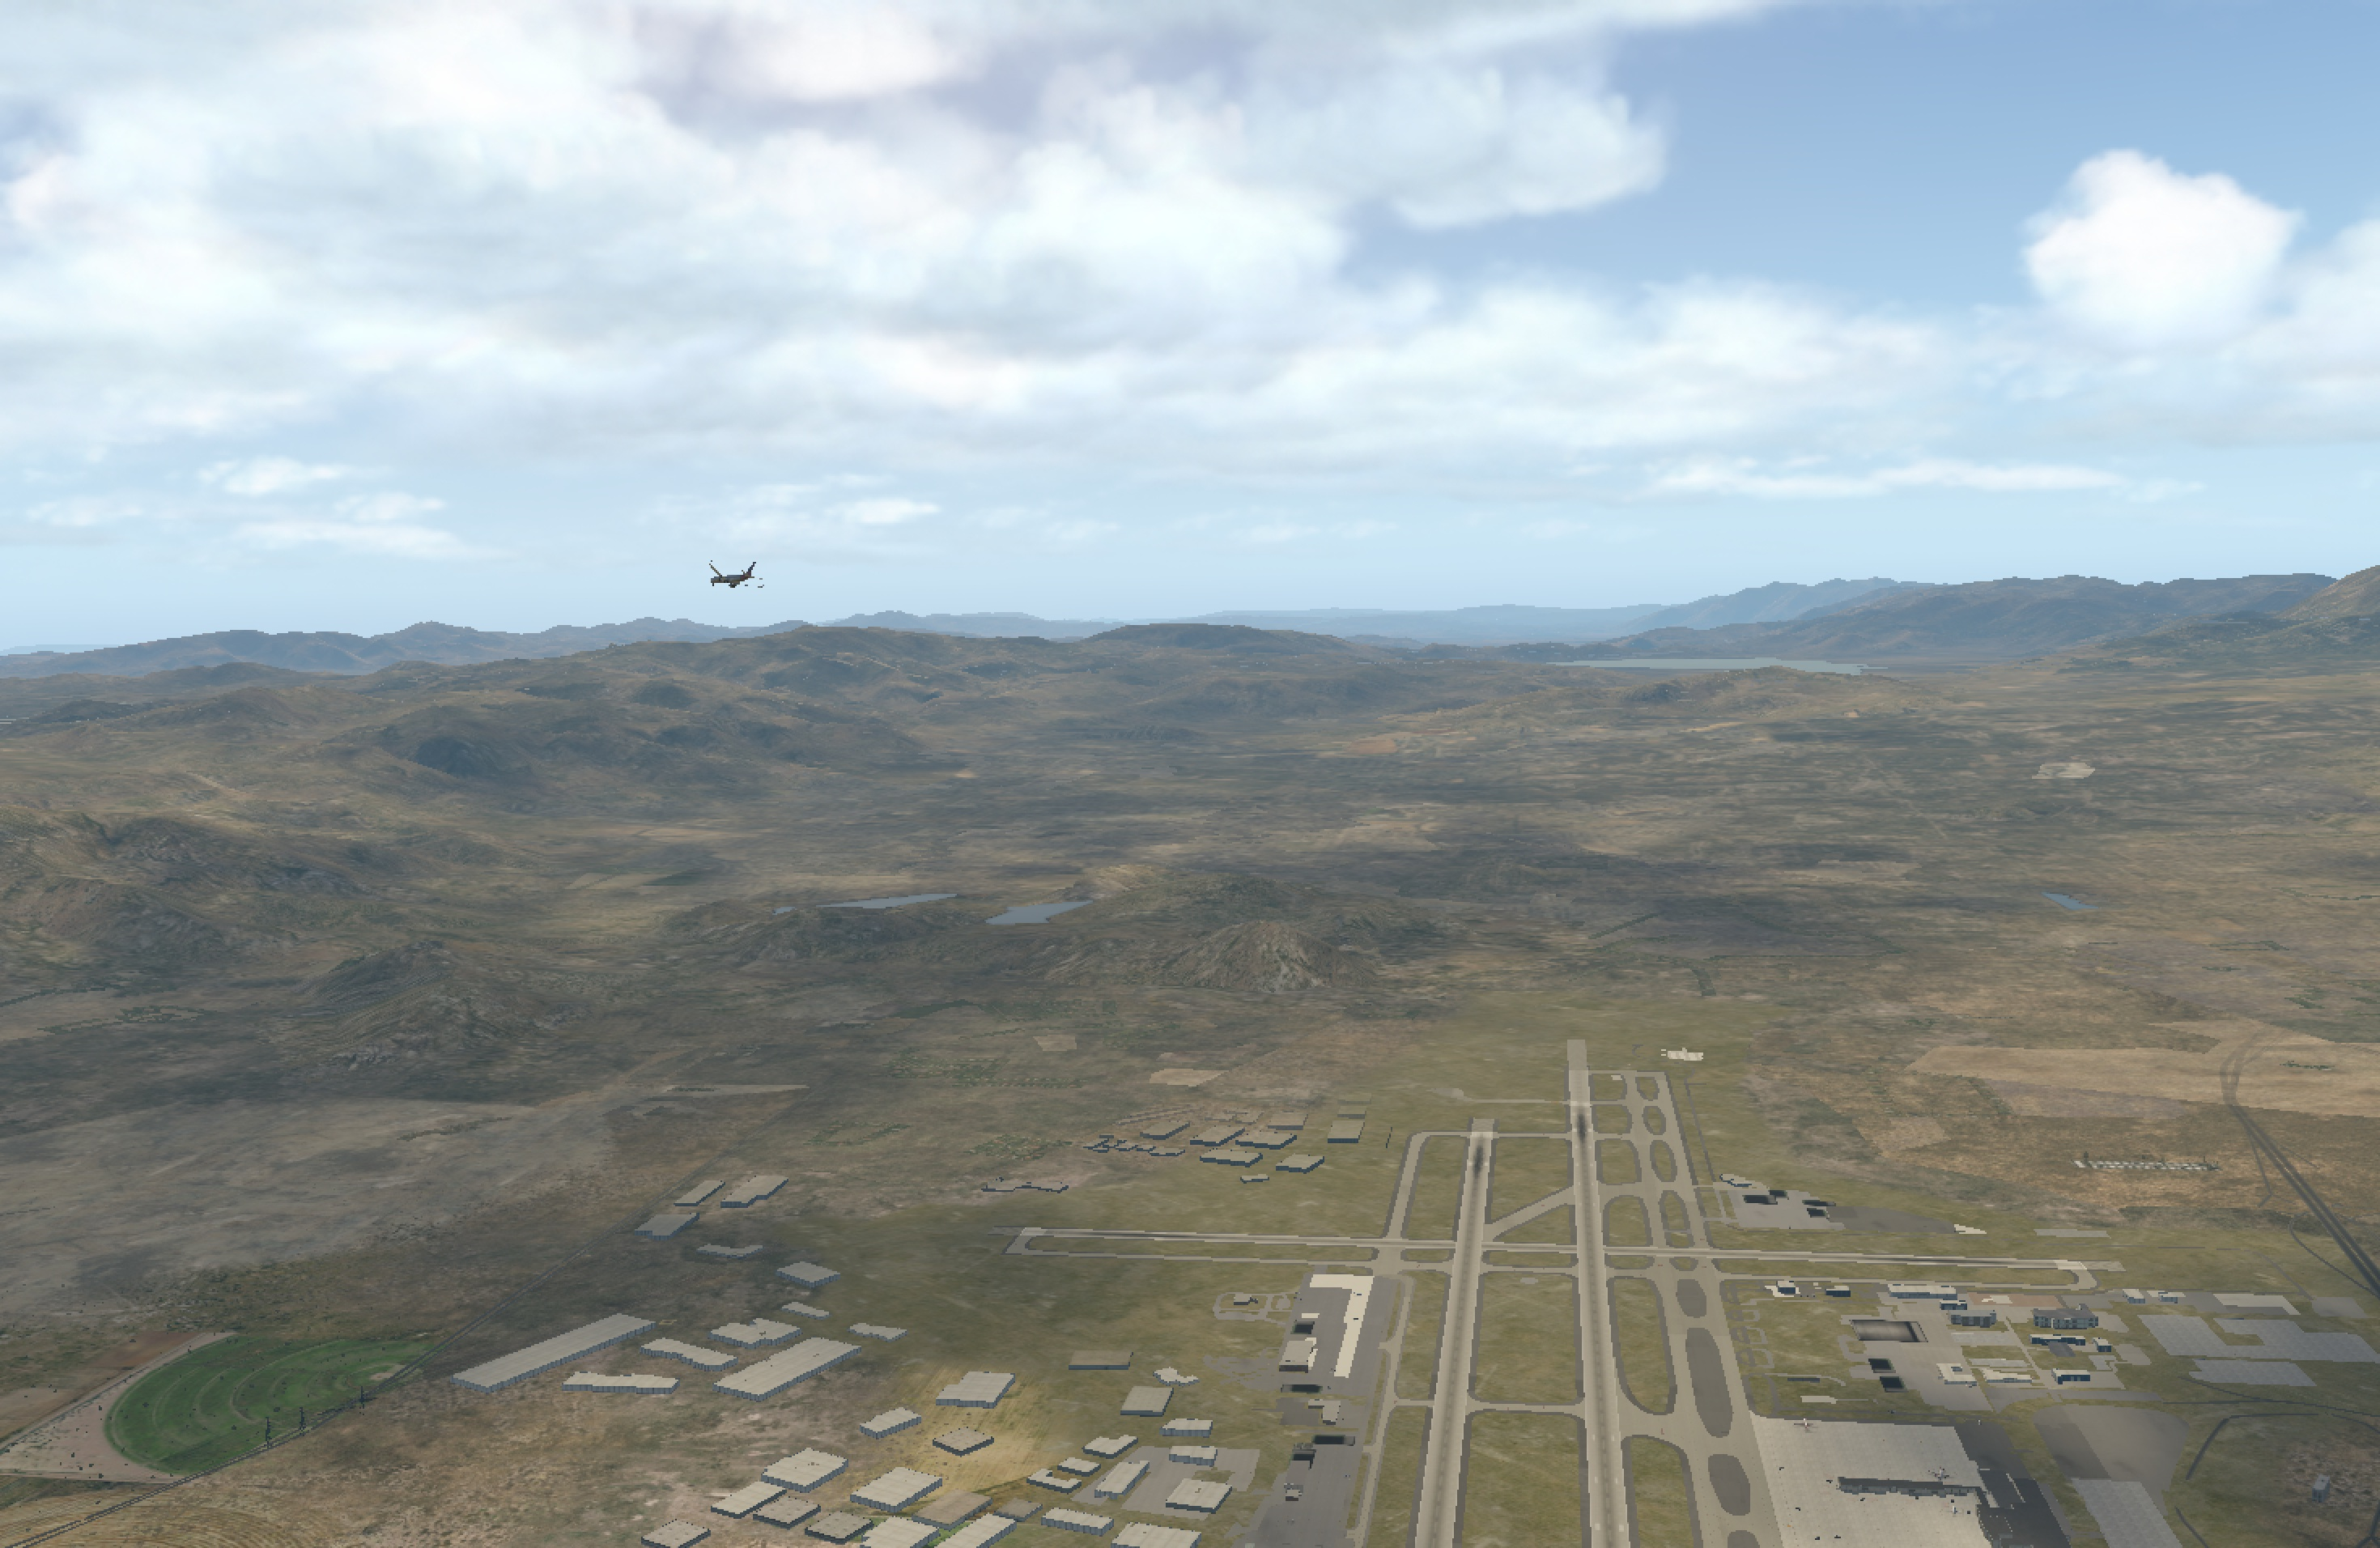aircraft: (694, 567, 765, 594)
